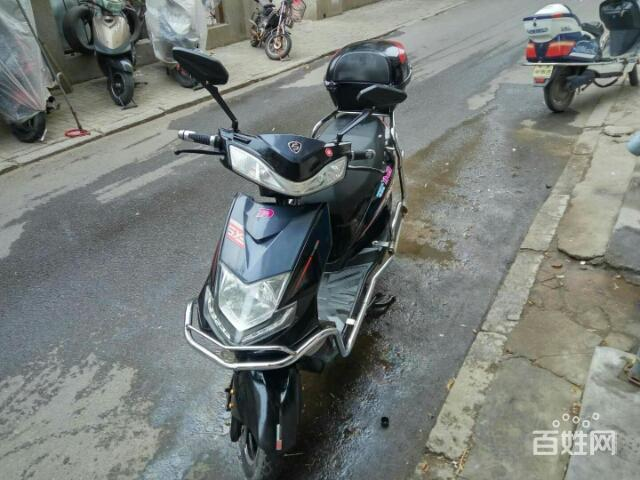电动车: (166, 38, 416, 480), (513, 1, 639, 113), (83, 1, 149, 124), (249, 1, 314, 64)
